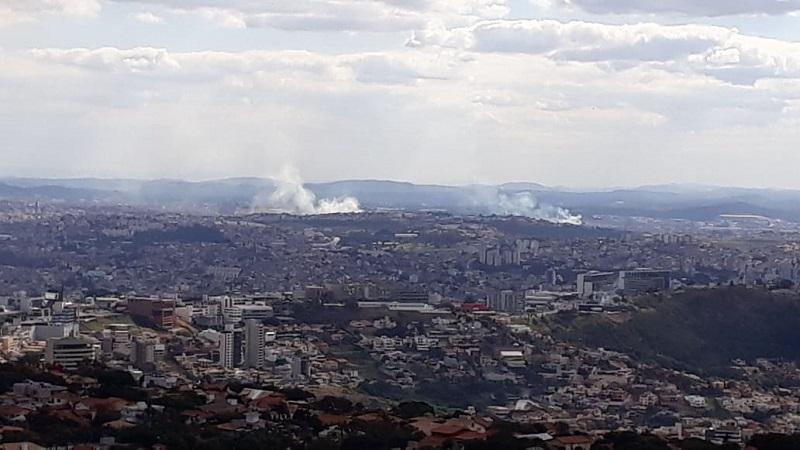smoke: (280, 173, 304, 209), (320, 196, 356, 217)
